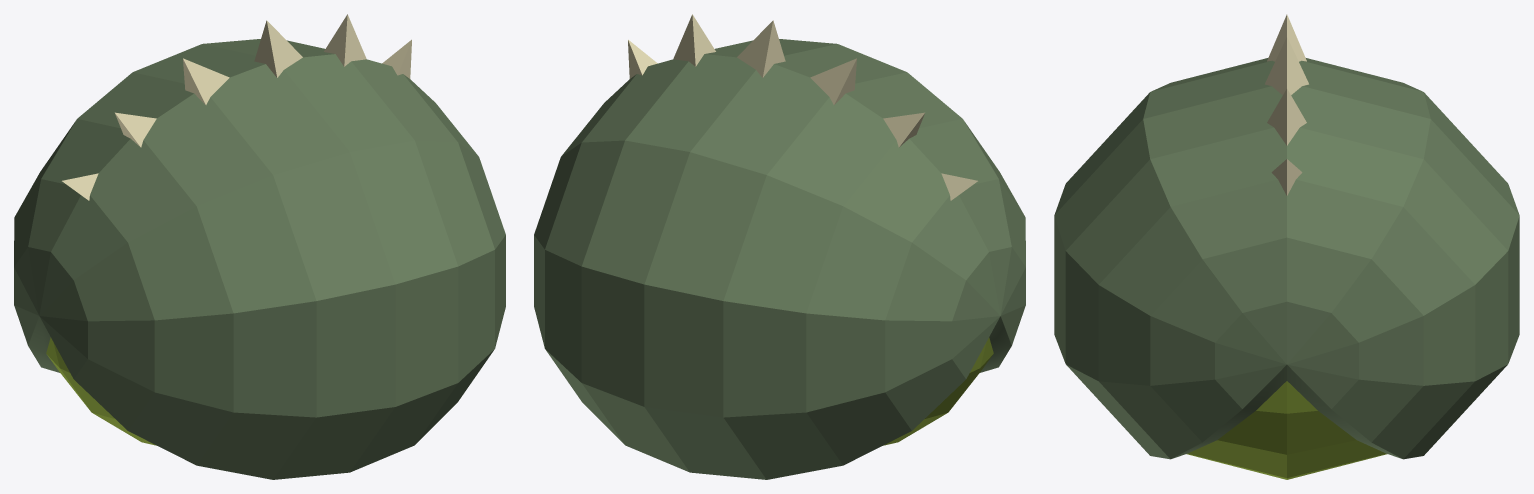
File: LarvaeThorax.fbx
3 views of the same model, side by side, from view 1: azimuth 30°, elevation 25°; view 2: azimuth 150°, elevation 25°; view 3: azimuth 270°, elevation 25° (orthographic). The views are drawn at different scales.
Visible parts, largest first — view 1: pCone47; view 2: pCone47; view 3: pCone47.
Part boxes in pixels (x1,y1,x2,y2): pCone47: (14, 14, 505, 479); pCone47: (534, 14, 1025, 479); pCone47: (1054, 14, 1519, 479).
Bounding box in the file's own units: 5.94 × 5.72 × 5.79.
